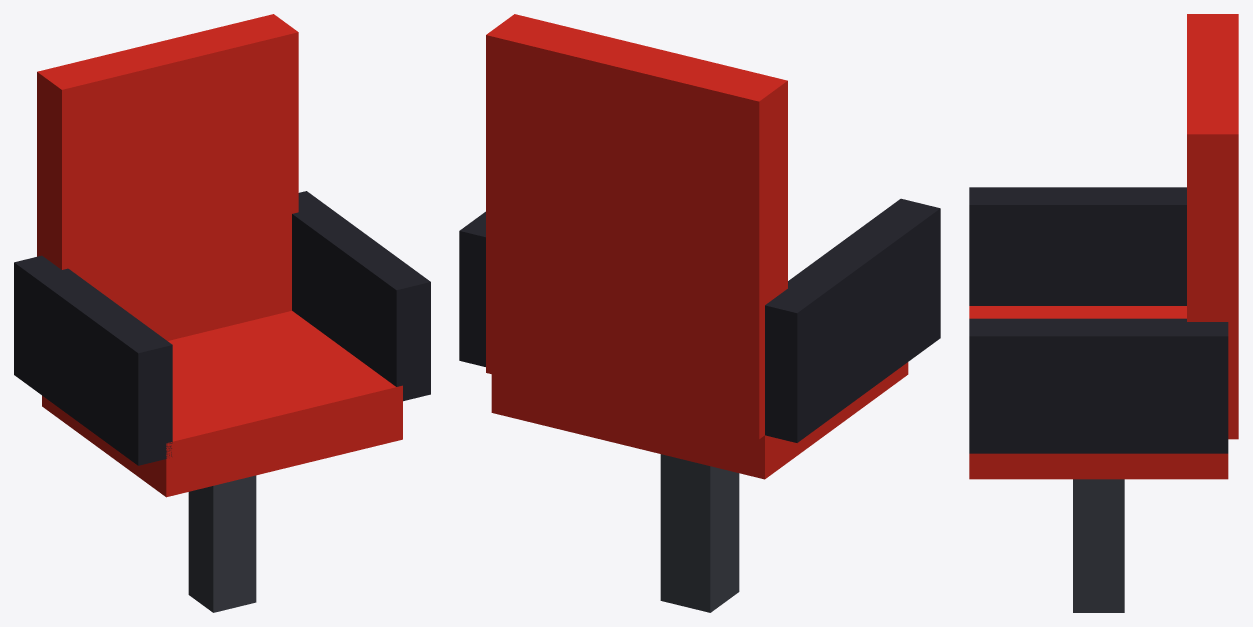
File: cinema_seat.fbx
3 views of the same model, side by side, from view 1: azimuth 30°, elevation 25°; view 2: azimuth 150°, elevation 25°; view 3: azimuth 270°, elevation 25° (orthographic). The views are drawn at different scales.
Parts seen in each view (by area): view 1: cinema_seat; view 2: cinema_seat; view 3: cinema_seat.
Part boxes in pixels (x1,y1,x2,y2): cinema_seat: (14, 14, 430, 612); cinema_seat: (459, 14, 940, 612); cinema_seat: (969, 14, 1238, 612).
Bounding box in the file's own units: 0.68 × 1.12 × 0.52.
